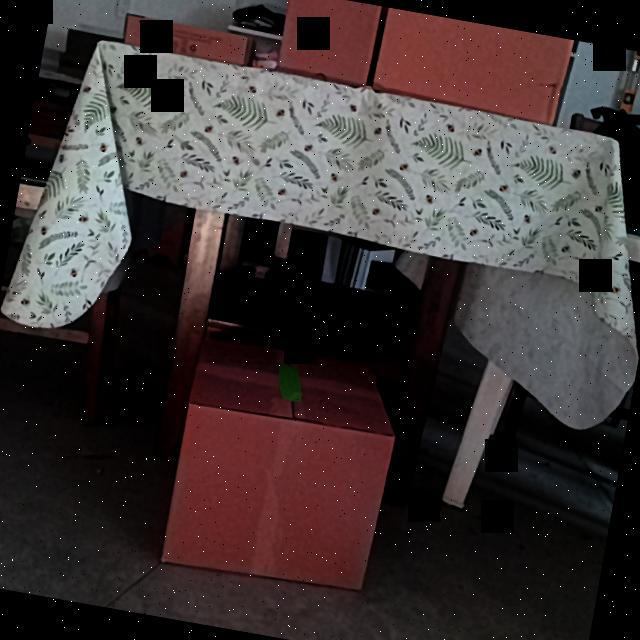box: (161, 400, 390, 590), (372, 7, 572, 123), (275, 0, 380, 84), (121, 15, 248, 64)
